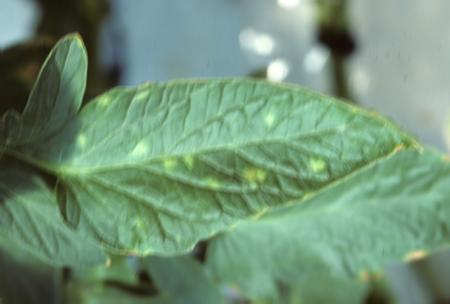Tomato mold leaf: (13, 37, 410, 264)
